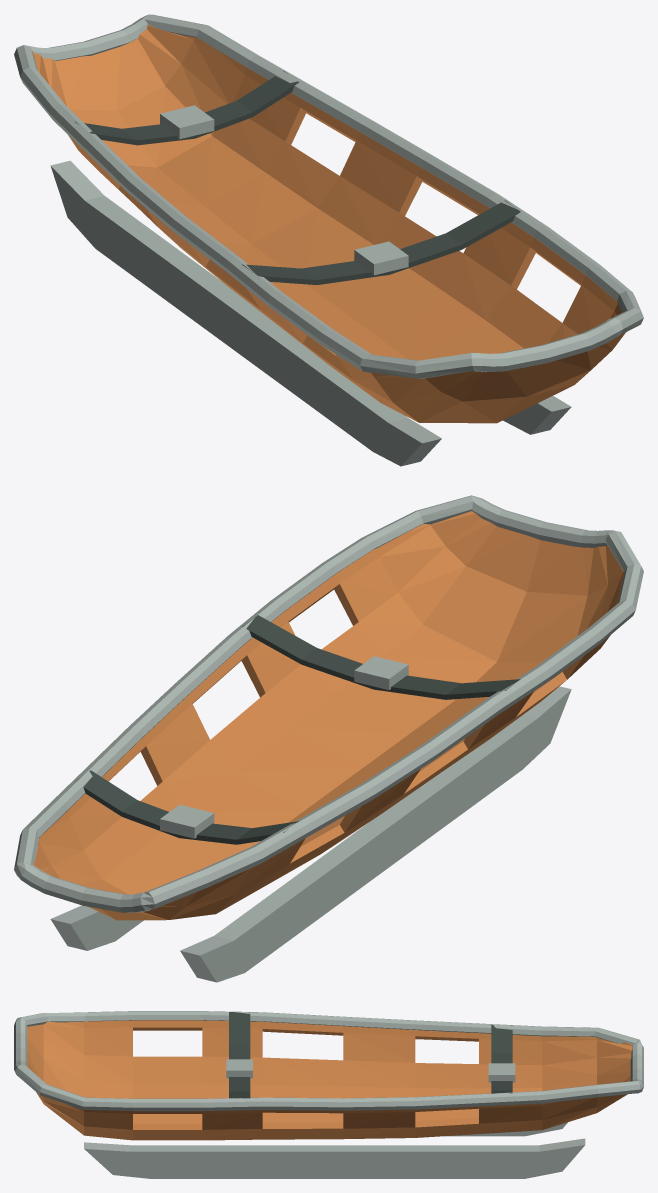
3 views of the same model, one above another, from view 1: azimuth 30°, elevation 25°; view 2: azimuth 150°, elevation 25°; view 3: azimuth 270°, elevation 25° (orthographic). The views are drawn at different scales.
Parts seen in each view (by area): view 1: WholeContouredRaisedEndTroughWithGripSlots, WholeContinuousPerimeterGripRing, WholeLowLongitudinalSkid-1, WholeStaticTransverseBand0, WholeStaticTransverseBand1, WholeLowLongitudinalSkid1, WholeProudBandConnector0, WholeProudBandConnector1; view 2: WholeContouredRaisedEndTroughWithGripSlots, WholeContinuousPerimeterGripRing, WholeLowLongitudinalSkid-1, WholeStaticTransverseBand0, WholeStaticTransverseBand1, WholeLowLongitudinalSkid1, WholeProudBandConnector0, WholeProudBandConnector1; view 3: WholeContouredRaisedEndTroughWithGripSlots, WholeLowLongitudinalSkid1, WholeContinuousPerimeterGripRing, WholeStaticTransverseBand0, WholeStaticTransverseBand1, WholeProudBandConnector1, WholeProudBandConnector0, WholeLowLongitudinalSkid-1.
Boxes of the visible parts, x1,y1,x2,y2 form: WholeContouredRaisedEndTroughWithGripSlots: (32,25,625,423); WholeContinuousPerimeterGripRing: (14,14,643,378); WholeLowLongitudinalSkid-1: (50,160,441,466); WholeStaticTransverseBand0: (242,200,520,284); WholeStaticTransverseBand1: (75,71,299,145); WholeLowLongitudinalSkid1: (503,396,571,434); WholeProudBandConnector0: (354,241,408,275); WholeProudBandConnector1: (160,105,214,139); WholeContouredRaisedEndTroughWithGripSlots: (33,511,624,920); WholeContinuousPerimeterGripRing: (14,495,643,912); WholeLowLongitudinalSkid-1: (180,686,571,982); WholeStaticTransverseBand0: (242,615,520,699); WholeStaticTransverseBand1: (75,770,298,844); WholeLowLongitudinalSkid1: (50,905,143,950); WholeProudBandConnector0: (354,656,408,689); WholeProudBandConnector1: (160,804,214,838); WholeContouredRaisedEndTroughWithGripSlots: (27,1020,632,1140); WholeLowLongitudinalSkid1: (84,1138,585,1178); WholeContinuousPerimeterGripRing: (14,1011,643,1111); WholeStaticTransverseBand0: (229,1012,250,1098); WholeStaticTransverseBand1: (491,1025,512,1093); WholeProudBandConnector1: (488,1063,515,1082); WholeProudBandConnector0: (226,1059,252,1078); WholeLowLongitudinalSkid-1: (445,1122,567,1136).
Bounding box in the file's own units: 0.766 × 0.4346 × 2.19.
